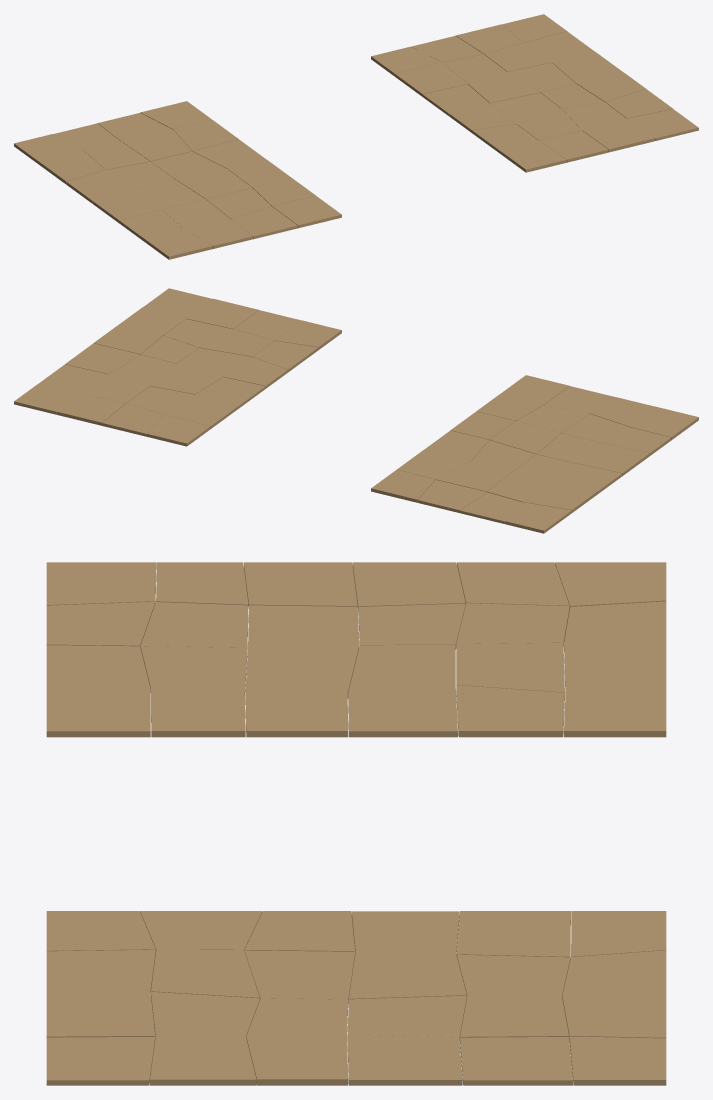
File: Ground2.fbx
The picture shows the model from 3 angles, top to bottom: view 1: azimuth 30°, elevation 25°; view 2: azimuth 150°, elevation 25°; view 3: azimuth 270°, elevation 25°; orthographic projection. The views are drawn at different scales.
Visible parts, largest first — view 1: Dirt1-1_0_0.001; view 2: Dirt1-1_0_0.001; view 3: Dirt1-1_0_0.001.
Boxes of the visible parts, <box> form: Dirt1-1_0_0.001: <box>14,14,698,259</box>; Dirt1-1_0_0.001: <box>14,288,698,533</box>; Dirt1-1_0_0.001: <box>46,562,666,1085</box>.
Size of the model in its own units: 14994 by 85.87 by 7593.
